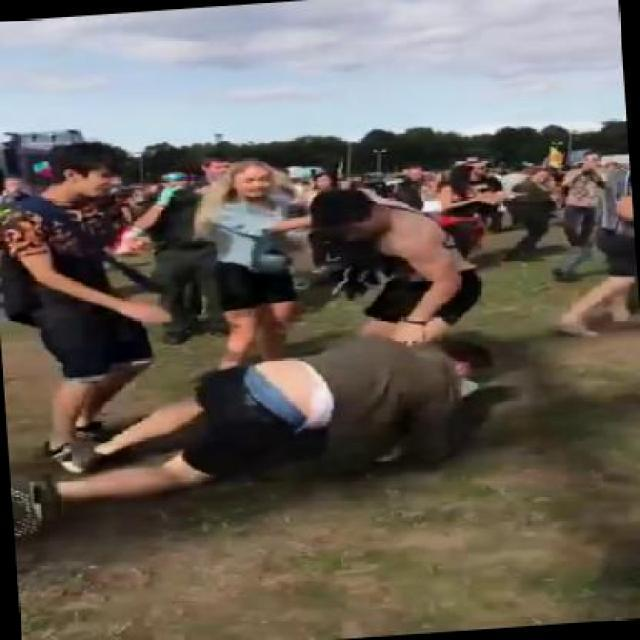fight: (256, 178, 498, 470)
non-fight: (0, 131, 166, 437)
